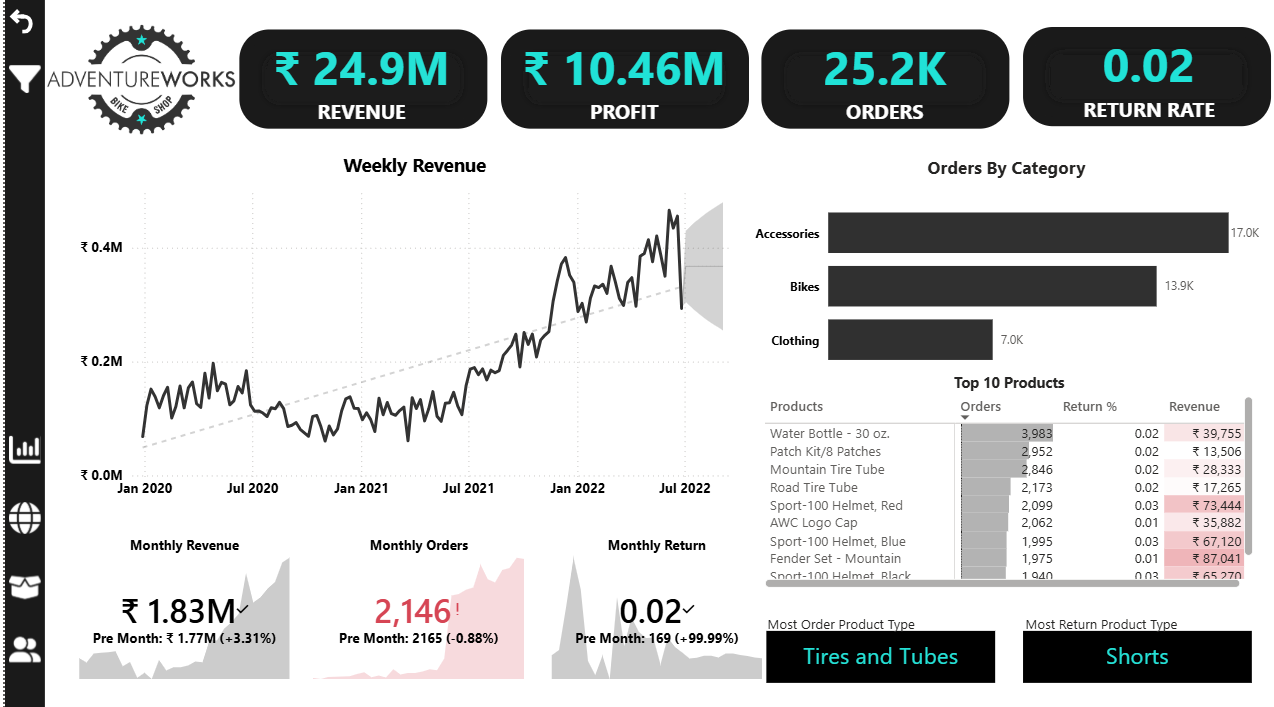

Layout of this report page (visuals, bound fields, positions):
{"tool":"powerbi","page":{"name":"Exce Dashboard","canvas":[1280,720],"ordinal":0},"visuals":[{"type":"cardVisual","fields":{"Data":["Measure Table.Return Rate"]},"box":[1026,8,254,148],"z":0,"group":"g2"},{"type":"image","title":"Logo","box":[20,26,236,116],"z":0},{"type":"group","id":"g1","title":"KPI BG","box":[236,32,1040,102],"z":0,"group":"g3"},{"type":"shape","box":[1026,32,250,100],"z":0,"group":"g1"},{"type":"actionButton","box":[0,435,40,45.2],"z":0,"group":"g4"},{"type":"shape","title":"MENU BAR","box":[0,0,40,720],"z":1000},{"type":"group","id":"g2","title":"KPI VALUES","box":[232,8,1048,150],"z":1000,"group":"g3"},{"type":"card","fields":{"Values":["Measure Table.Total Orders"]},"box":[760,10,254,148],"z":1000,"group":"g2"},{"type":"shape","box":[762.7,34,250,100],"z":1000,"group":"g1"},{"type":"actionButton","box":[0,573.1,40,45.2],"z":1000,"group":"g4"},{"type":"group","id":"g3","title":"Group 1","box":[232,8,1048,150],"z":2000},{"type":"cardVisual","fields":{"Data":["Measure Table.Total Profit"]},"box":[481.3,10,286,148],"z":2000,"group":"g2"},{"type":"shape","box":[499.3,34,250,100],"z":2000,"group":"g1"},{"type":"actionButton","box":[0,504.1,40,45.2],"z":2000,"group":"g4"},{"type":"cardVisual","fields":{"Data":["Measure Table.Total Revenue sumx"]},"box":[232,10,254,148],"z":3000,"group":"g2"},{"type":"shape","box":[236,34,250,100],"z":3000,"group":"g1"},{"type":"lineChart","title":"Weekly Revenue","fields":{"Category":["Calendar Lookup.Date Hierarchy.Start of Year","Calendar Lookup.Date Hierarchy.Start of Month","Calendar Lookup.Date Hierarchy.Start of Week"],"Y":["Measure Table.Total Revenue sumx"]},"box":[70,158,686,358],"z":3000},{"type":"kpi","title":"Monthly Revenue","fields":{"Indicator":["Measure Table.Total Revenue sumx"],"TrendLine":["Calendar Lookup.Date Hierarchy.Start of Month"],"Goal":["Measure Table.Privious Month Revenue"]},"box":[70,544,222,150],"z":4000},{"type":"kpi","title":"Monthly Orders","fields":{"Indicator":["Measure Table.Total Orders"],"TrendLine":["Calendar Lookup.Date Hierarchy.Start of Month"],"Goal":["Measure Table.Privious Month Orders"]},"box":[306,544,222,150],"z":5000},{"type":"kpi","title":"Monthly Return","fields":{"TrendLine":["Calendar Lookup.Date Hierarchy.Start of Month"],"Indicator":["Measure Table.Return Rate"],"Goal":["Measure Table.Privious Month Return Rate"]},"box":[546,544,222,150],"z":6000},{"type":"clusteredBarChart","title":"Orders By Category","fields":{"Category":["Product Categories Lookup.CategoryName"],"Y":["Measure Table.Total Orders"]},"box":[750,161.5,519.2,234.6],"z":7000},{"type":"pivotTable","title":"Top  10 Products","fields":{"Rows":["Product Lookup.ProductName"],"Values":["Measure Table.Total Orders","Measure Table.Return Rate","Measure Table.Total Revenue sumx"]},"box":[761.5,378.8,501.9,223.1],"z":8000},{"type":"card","fields":{"Values":["Min(Product Subcategories Lookup.SubcategoryName)"]},"box":[767.9,639.7,230.8,52.6],"z":9000},{"type":"textbox","box":[763.3,618.3,176.7,28.3],"z":10000},{"type":"card","fields":{"Values":["Min(Product Subcategories Lookup.SubcategoryName)"]},"box":[1025.6,639.7,230.8,52.6],"z":11000},{"type":"textbox","box":[1023.3,618.3,165,28.3],"z":12000},{"type":"actionButton","box":[0,8.3,40,33.3],"z":13000},{"type":"actionButton","box":[0,638.3,55,40],"z":14000},{"type":"group","id":"g4","title":"Group 1","box":[0,435,40,183.3],"z":15000},{"type":"actionButton","box":[0,63.3,40,40],"z":16000}]}

Visuals, with their boxes in screenshot pixels (x1, y1, x2, y2), scaled from the page's 1280x720 canvas onto the 1274x707 screenshot:
cardVisual - Measure Table.Return Rate: rect(1021, 8, 1273, 153)
"Logo" image: rect(20, 26, 255, 139)
"KPI BG" group: rect(235, 31, 1270, 132)
shape: rect(1021, 31, 1270, 130)
actionButton: rect(0, 427, 40, 472)
"MENU BAR" shape: rect(0, 0, 40, 706)
"KPI VALUES" group: rect(231, 8, 1273, 155)
card - Measure Table.Total Orders: rect(756, 10, 1009, 155)
shape: rect(759, 33, 1008, 132)
actionButton: rect(0, 563, 40, 607)
"Group 1" group: rect(231, 8, 1273, 155)
cardVisual - Measure Table.Total Profit: rect(479, 10, 764, 155)
shape: rect(497, 33, 746, 132)
actionButton: rect(0, 495, 40, 539)
cardVisual - Measure Table.Total Revenue sumx: rect(231, 10, 484, 155)
shape: rect(235, 33, 484, 132)
"Weekly Revenue" lineChart: rect(70, 155, 752, 507)
"Monthly Revenue" kpi: rect(70, 534, 291, 681)
"Monthly Orders" kpi: rect(305, 534, 526, 681)
"Monthly Return" kpi: rect(543, 534, 764, 681)
"Orders By Category" clusteredBarChart: rect(746, 159, 1263, 389)
"Top  10 Products" pivotTable: rect(758, 372, 1257, 591)
card - Min(Product Subcategories Lookup.SubcategoryName): rect(764, 628, 994, 680)
textbox: rect(760, 607, 936, 635)
card - Min(Product Subcategories Lookup.SubcategoryName): rect(1021, 628, 1251, 680)
textbox: rect(1019, 607, 1183, 635)
actionButton: rect(0, 8, 40, 41)
actionButton: rect(0, 627, 55, 666)
"Group 1" group: rect(0, 427, 40, 607)
actionButton: rect(0, 62, 40, 101)
